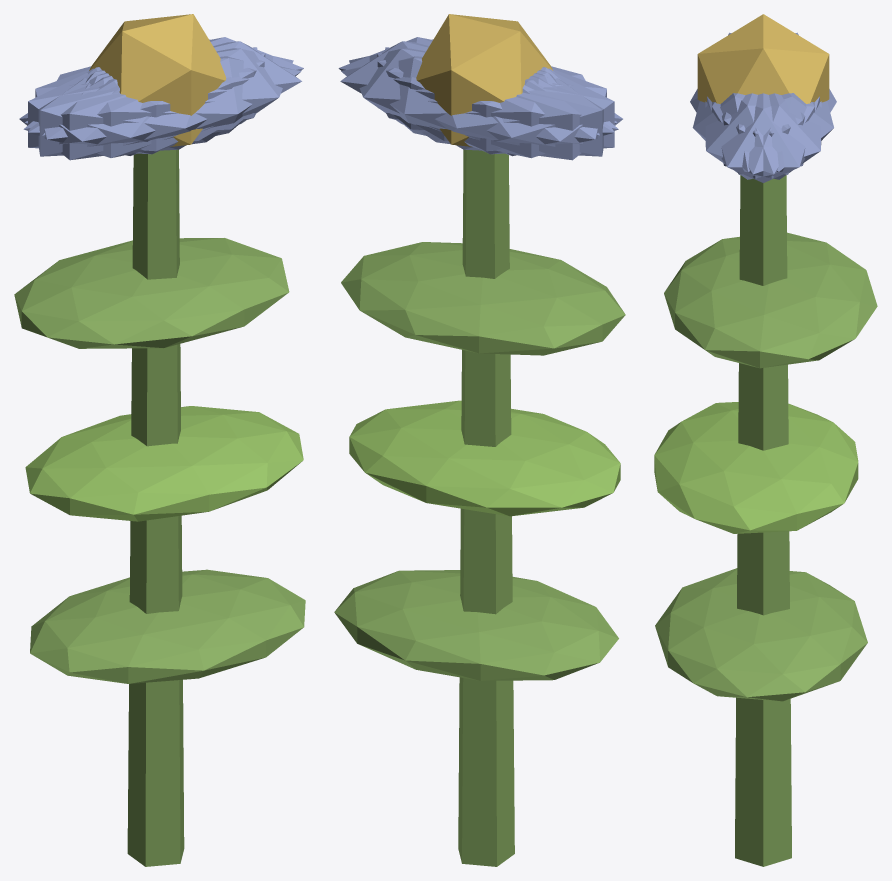
Rendered from megaskepasma-erythrochlamys.glb.
3 views of the same model, side by side, from view 1: azimuth 30°, elevation 25°; view 2: azimuth 150°, elevation 25°; view 3: azimuth 270°, elevation 25° (orthographic).
Parts seen in each view (by area): view 1: stem, leaf1, leaf0, leaf2, center, petal1, petal6, petal2, petal5, petal7, petal0, petal4 (+2 smaller); view 2: stem, leaf2, leaf0, leaf1, center, petal8, petal3, petal7, petal4, petal2, petal0, petal5 (+2 smaller); view 3: stem, leaf2, leaf0, leaf1, center, petal0, petal4, petal5, petal1, petal8.
Part boxes in pixels (box(x1,y1,x2,y2)): stem: box(127, 149, 184, 866); leaf1: box(25, 406, 303, 521); leaf0: box(30, 569, 305, 683); leaf2: box(14, 238, 289, 348); center: box(89, 14, 226, 146); petal1: box(23, 56, 301, 157); petal6: box(19, 68, 220, 160); petal2: box(38, 47, 257, 156); petal5: box(42, 48, 293, 151); petal7: box(28, 53, 265, 154); petal0: box(89, 41, 301, 141); petal4: box(25, 37, 303, 132); stem: box(458, 149, 514, 866); leaf2: box(341, 242, 625, 355); leaf0: box(334, 570, 618, 680); leaf1: box(349, 400, 620, 516); center: box(416, 14, 553, 146); petal8: box(341, 56, 618, 158); petal3: box(422, 68, 622, 160); petal7: box(385, 47, 603, 156); petal4: box(349, 48, 599, 151); petal2: box(377, 53, 614, 154); petal0: box(340, 41, 553, 141); petal5: box(338, 37, 617, 132); stem: box(735, 175, 791, 866); leaf2: box(664, 232, 877, 368); leaf0: box(655, 568, 867, 701); leaf1: box(654, 402, 858, 533); center: box(697, 14, 829, 103); petal0: box(707, 93, 819, 182); petal4: box(712, 93, 821, 179); petal5: box(705, 93, 814, 179); petal1: box(692, 93, 804, 171); petal8: box(722, 93, 833, 171).
Bounding box in the file's own units: 0.1452 × 0.4224 × 0.1039.
